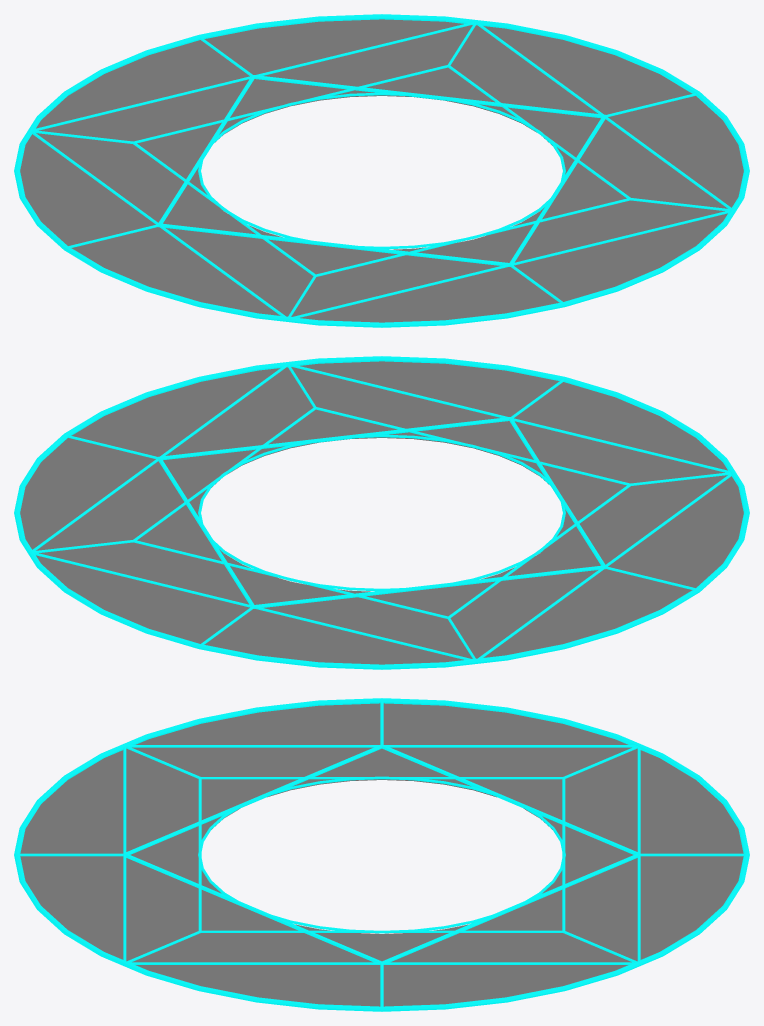
File: Ritual Circle.fbx
3 views of the same model, one above another, from view 1: azimuth 30°, elevation 25°; view 2: azimuth 150°, elevation 25°; view 3: azimuth 270°, elevation 25° (orthographic).
Parts seen in each view (by area): view 1: Rug, Ritual Circle; view 2: Rug, Ritual Circle; view 3: Rug, Ritual Circle.
Boxes of the visible parts, box(x1,y1,x2,y2) form: Rug: box(20, 19, 743, 322); Ritual Circle: box(14, 14, 749, 327); Rug: box(20, 361, 743, 664); Ritual Circle: box(14, 356, 749, 669); Rug: box(20, 703, 743, 1006); Ritual Circle: box(14, 698, 749, 1011).
Size of the model in its own units: 30.25 by 0.2188 by 30.25.
